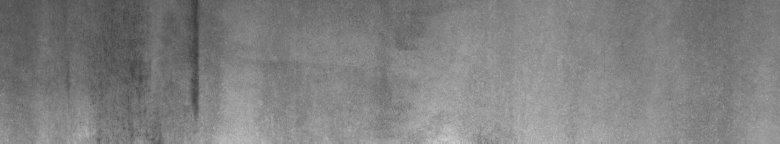ka: (66, 4, 207, 136)
